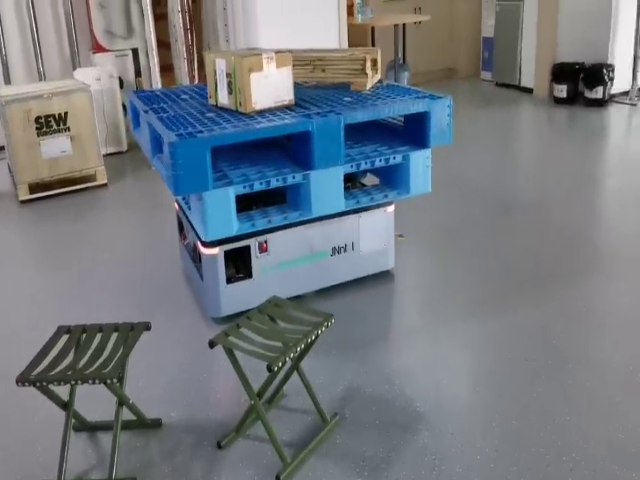block: (165, 140, 212, 197), (200, 188, 241, 236), (399, 150, 436, 200), (308, 174, 347, 220), (315, 116, 345, 171), (427, 99, 453, 150)
front: (167, 98, 453, 196)
hole pallet: (211, 130, 310, 187), (344, 115, 423, 161)
